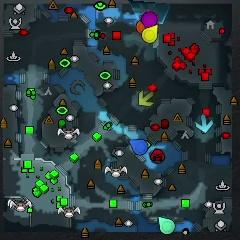p1: (127, 138, 148, 156)
p2: (159, 216, 175, 234)
p3: (142, 11, 158, 27)
p4: (142, 25, 159, 43)
p5: (136, 20, 145, 34)
x2: (138, 88, 154, 107)
x3: (195, 114, 212, 134)
